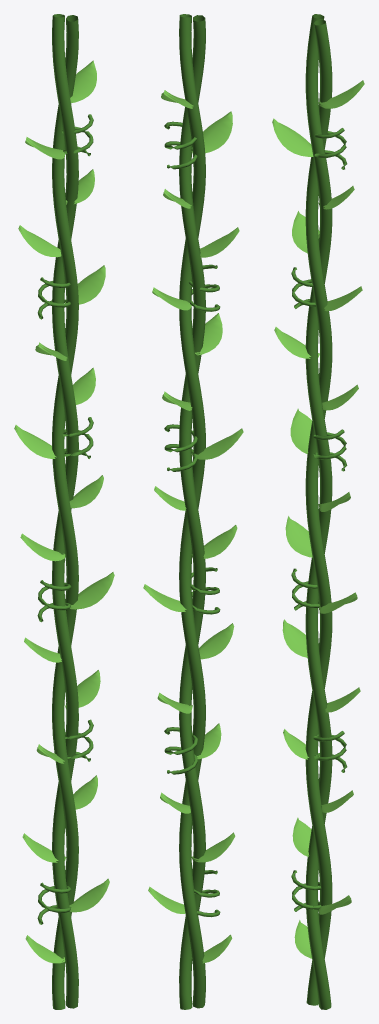
The model's file is HoneyVine.obj.
The picture shows the model from 3 angles, left to right: view 1: azimuth 30°, elevation 25°; view 2: azimuth 210°, elevation 25°; view 3: azimuth 330°, elevation 25°; orthographic projection.
Visible parts, largest first — view 1: Vine, VineLeaves; view 2: Vine, VineLeaves; view 3: Vine, VineLeaves.
Boxes of the visible parts, <box> form: Vine: <box>37,14,93,1009</box>; VineLeaves: <box>14,60,114,963</box>; Vine: <box>164,14,220,1009</box>; VineLeaves: <box>143,90,243,963</box>; Vine: <box>291,14,347,1009</box>; VineLeaves: <box>272,80,364,958</box>.
Size of the model in its own units: 2.35 by 25.54 by 1.36.
